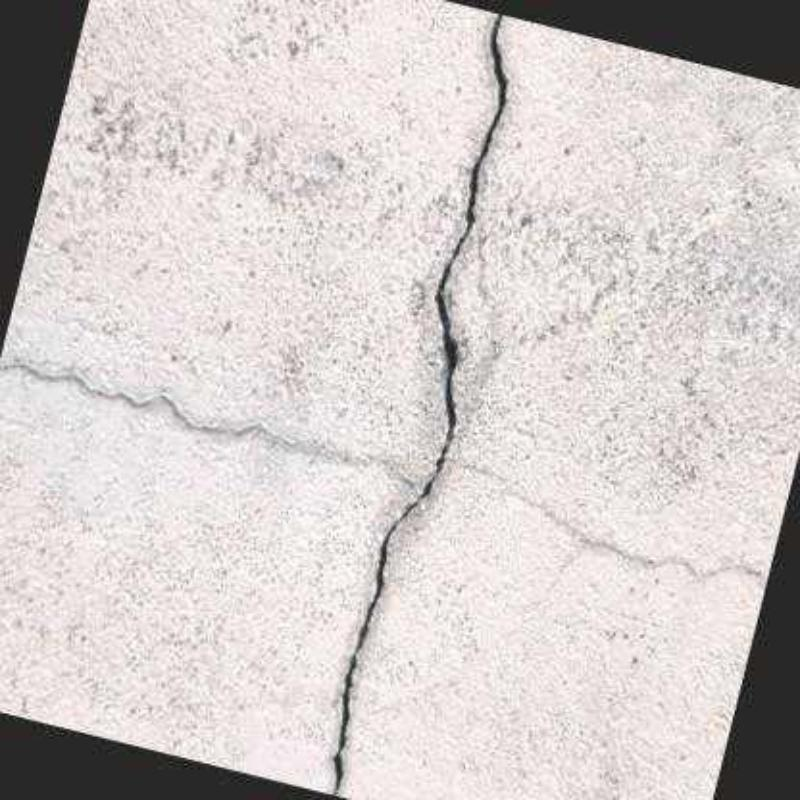crack: (330, 12, 508, 796), (0, 362, 308, 448), (504, 488, 762, 579), (444, 458, 508, 481)
